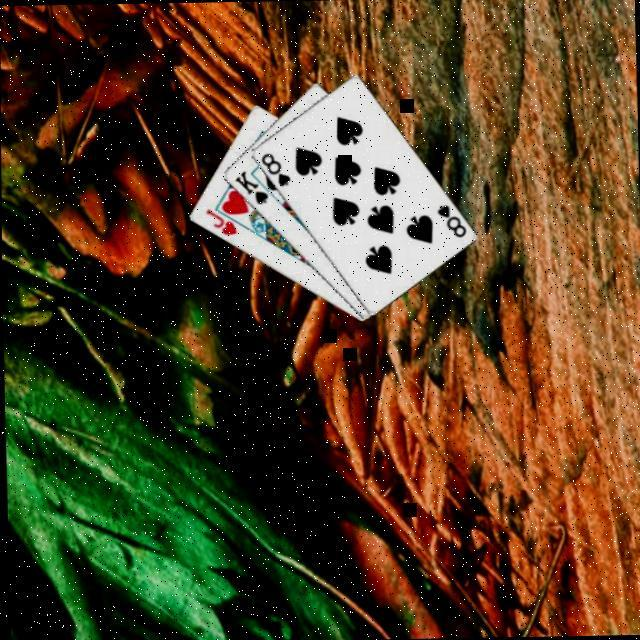8S: (255, 149, 292, 189), (432, 200, 467, 240)
JH: (201, 205, 238, 238)
KS: (229, 166, 269, 206)
